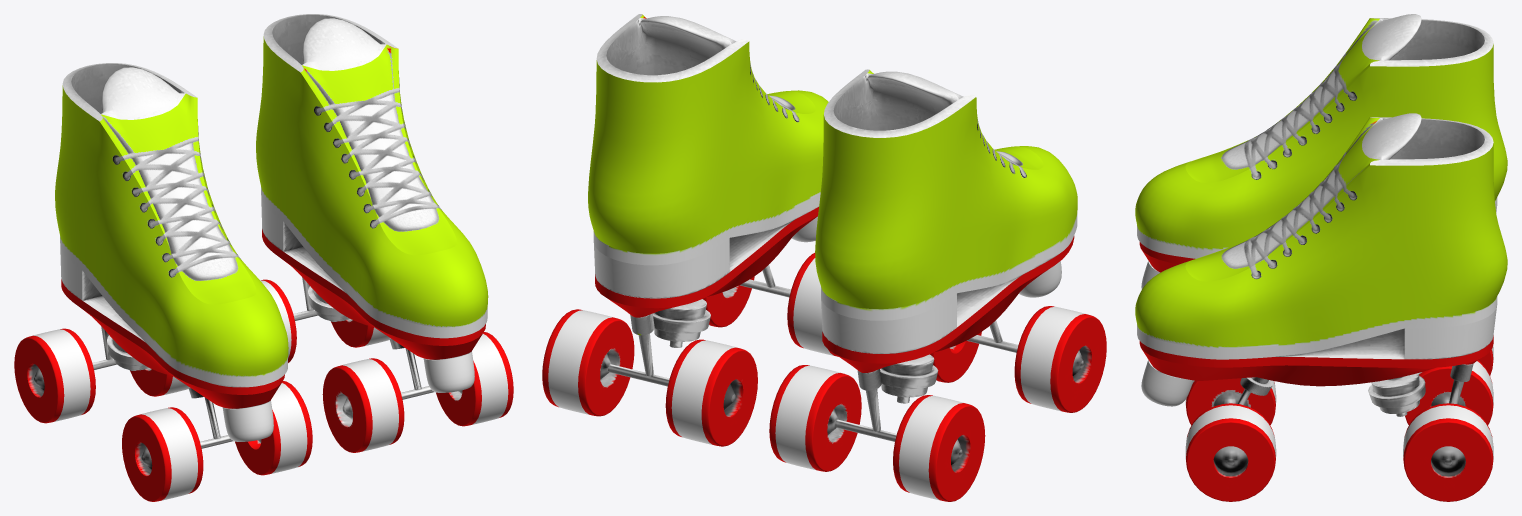
File: Roller_skate.fbx
3 renders of one model, left to right at view 1: azimuth 30°, elevation 25°; view 2: azimuth 150°, elevation 25°; view 3: azimuth 270°, elevation 25°, orthographic. The views are drawn at different scales.
Parts seen in each view (by area): view 1: polySurface12, polySurface7; view 2: polySurface12, polySurface7; view 3: polySurface7, polySurface12.
Part boxes in pixels (x1,y1,x2,y2): polySurface12: [14, 63, 312, 501]; polySurface7: [256, 14, 513, 452]; polySurface12: [769, 69, 1106, 501]; polySurface7: [542, 14, 838, 446]; polySurface7: [1135, 113, 1507, 501]; polySurface12: [1135, 14, 1507, 375].
Size of the model in its own units: 20.02 by 18.88 by 18.23.
